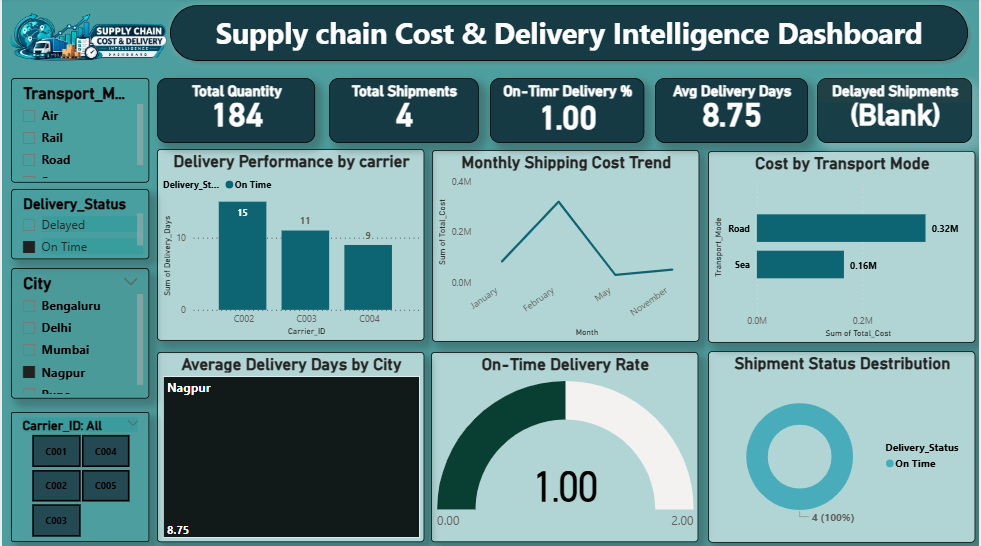

The page's visual inventory and layout, read from the dashboard file:
{"tool":"powerbi","page":{"name":"Page 1","canvas":[1280,720],"ordinal":0},"visuals":[{"type":"donutChart","title":"Shipment Status Destribution","fields":{"Y":["Shipments.Total Shipments"],"Category":["Shipments.Delivery_Status"]},"box":[924.5,462.2,349.9,250.6],"z":0},{"type":"gauge","title":"On-Time Delivery Rate","fields":{"Y":["Shipments.On-Time Delivery %"]},"box":[561.6,463.7,349.9,249.1],"z":1000},{"type":"lineChart","title":"Monthly Shipping Cost Trend","fields":{"Y":["Sum(Shipments.Total_Cost)"],"Category":["Shipments.Order_Date.Variation.Date Hierarchy.Month"]},"box":[563,198.7,349.9,250.6],"z":2000},{"type":"clusteredBarChart","title":"Cost by Transport Mode","fields":{"Category":["Transport.Transport_Mode"],"Y":["Sum(Shipments.Total_Cost)"]},"box":[924.5,200.2,349.9,250.6],"z":3000},{"type":"treemap","title":"Average Delivery Days by City","fields":{"Values":["Shipments.Avg Delivery Days"],"Details":["Warehouses.City"]},"box":[203,463.7,349.9,249.1],"z":4000},{"type":"columnChart","title":"Delivery Performance by carrier","fields":{"Category":["Shipments.Carrier_ID"],"Y":["Sum(Shipments.Delivery_Days)"],"Series":["Shipments.Delivery_Status"]},"box":[203,197.3,349.9,250.6],"z":5000},{"type":"card","title":"Total Quantity","fields":{"Values":["Shipments.Total Quantity"]},"box":[203,105.1,207.4,85],"z":6000},{"type":"card","title":"Total Shipments","fields":{"Values":["Shipments.Total Shipments"]},"box":[427.7,105.1,195.8,85],"z":7000},{"type":"card","title":"On-Timr Delivery %","fields":{"Values":["Shipments.On-Time Delivery %"]},"box":[639.4,105.1,201.6,85],"z":8000},{"type":"card","title":"Avg Delivery Days","fields":{"Values":["Shipments.Avg Delivery Days"]},"box":[855.4,105.1,200.2,85],"z":9000},{"type":"card","title":"Delayed Shipments","fields":{"Values":["Carriers.Delayed Shipments"]},"box":[1067,105.1,203,85],"z":10000},{"type":"shape","box":[0,0,1265.9,92.2],"z":11000},{"type":"slicer","fields":{"Values":["Carriers.Carrier_ID"]},"box":[11.5,541.4,181.4,169.9],"z":12000},{"type":"slicer","fields":{"Values":["Transport.Transport_Mode"]},"box":[11.5,105.1,181.4,136.8],"z":13000},{"type":"slicer","fields":{"Values":["Shipments.Delivery_Status"]},"box":[11.5,250.6,181.4,92.2],"z":14000},{"type":"slicer","fields":{"Values":["Warehouses.City"]},"box":[11.5,352.8,181.4,171.4],"z":15000}]}

Visuals, with their boxes in screenshot pixels (x1, y1, x2, y2), scaled from the page's 1280x720 canvas onto the 981x546 screenshot:
"Shipment Status Destribution" donutChart: crop(709, 351, 977, 541)
"On-Time Delivery Rate" gauge: crop(430, 352, 699, 541)
"Monthly Shipping Cost Trend" lineChart: crop(431, 151, 700, 341)
"Cost by Transport Mode" clusteredBarChart: crop(709, 152, 977, 342)
"Average Delivery Days by City" treemap: crop(156, 352, 424, 541)
"Delivery Performance by carrier" columnChart: crop(156, 150, 424, 340)
"Total Quantity" card: crop(156, 80, 315, 144)
"Total Shipments" card: crop(328, 80, 478, 144)
"On-Timr Delivery %" card: crop(490, 80, 645, 144)
"Avg Delivery Days" card: crop(656, 80, 809, 144)
"Delayed Shipments" card: crop(818, 80, 973, 144)
shape: crop(0, 0, 970, 70)
slicer - Carriers.Carrier_ID: crop(9, 411, 148, 539)
slicer - Transport.Transport_Mode: crop(9, 80, 148, 183)
slicer - Shipments.Delivery_Status: crop(9, 190, 148, 260)
slicer - Warehouses.City: crop(9, 268, 148, 398)
